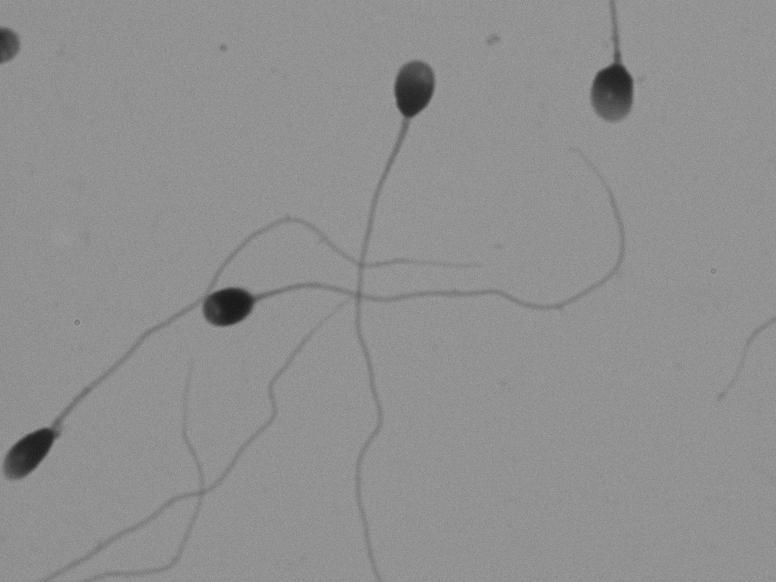Abnormal: (2, 274, 160, 542), (541, 13, 689, 138)
Normal: (186, 150, 655, 390), (324, 45, 464, 563)
